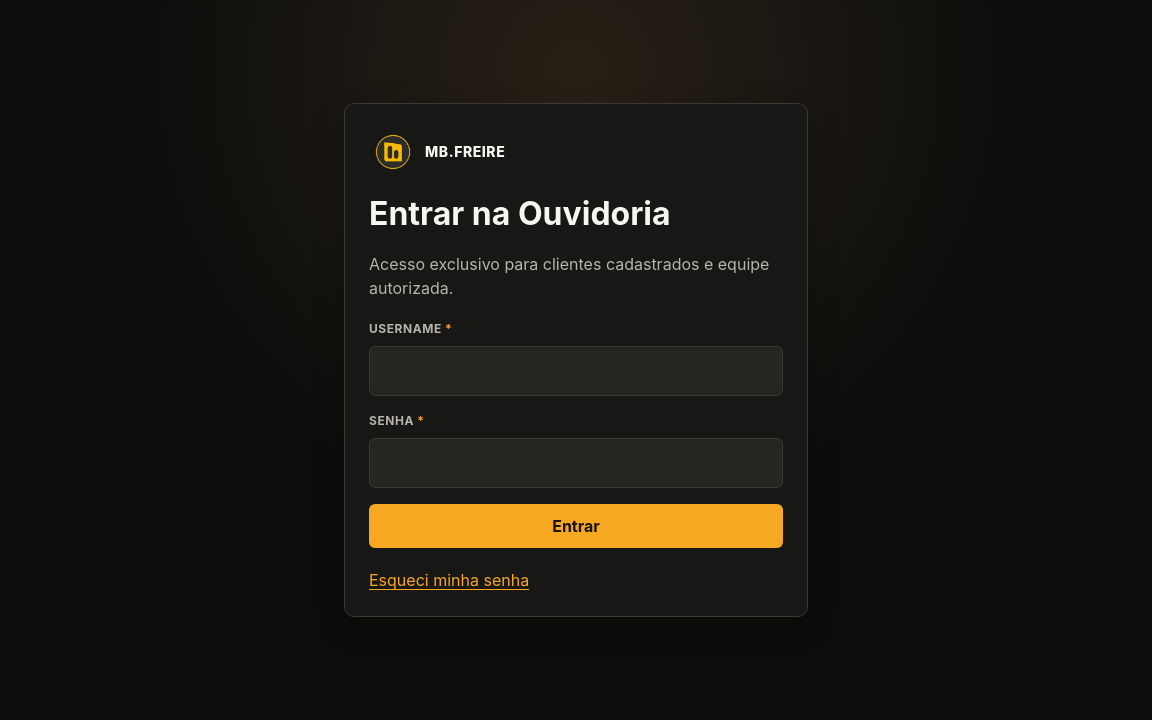
Scenario: dashboard usa /me e a primeira página, mostra apenas total geral e recentes na ordem recebida
Type "cliente" into the field labelled "Username" at point(576, 371), box [369,346,783,396]
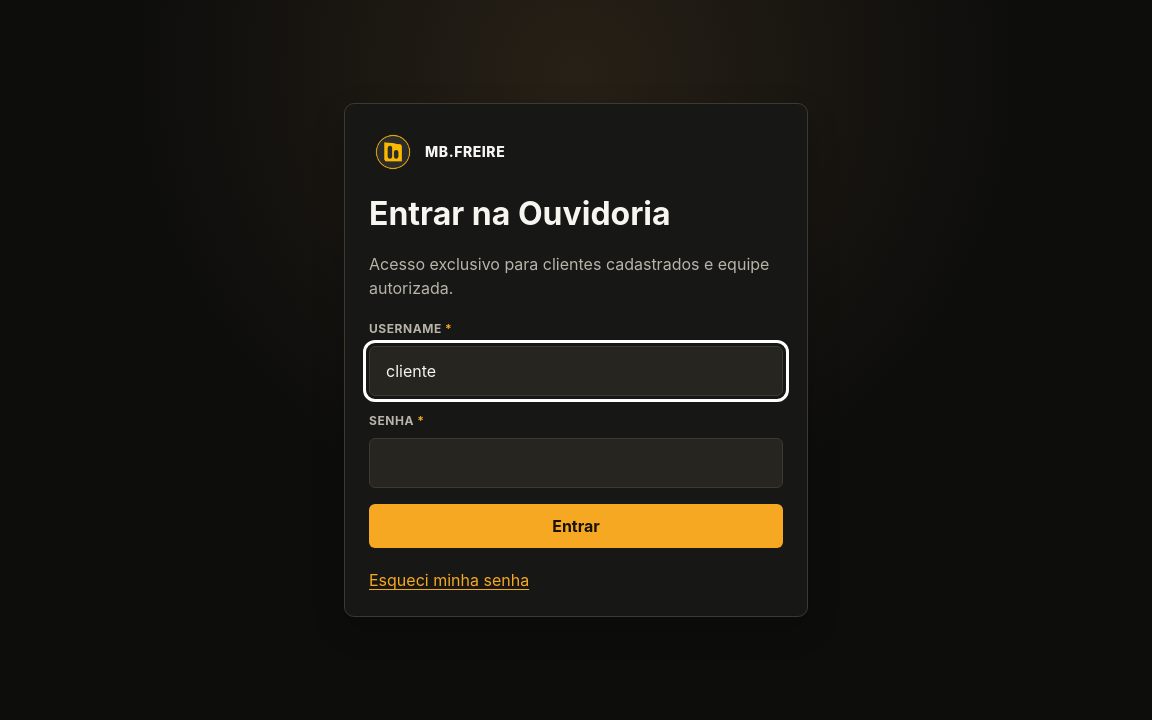
Type "senha-correta" into the password field labelled "Senha *" at point(576, 463), box [369,438,783,488]
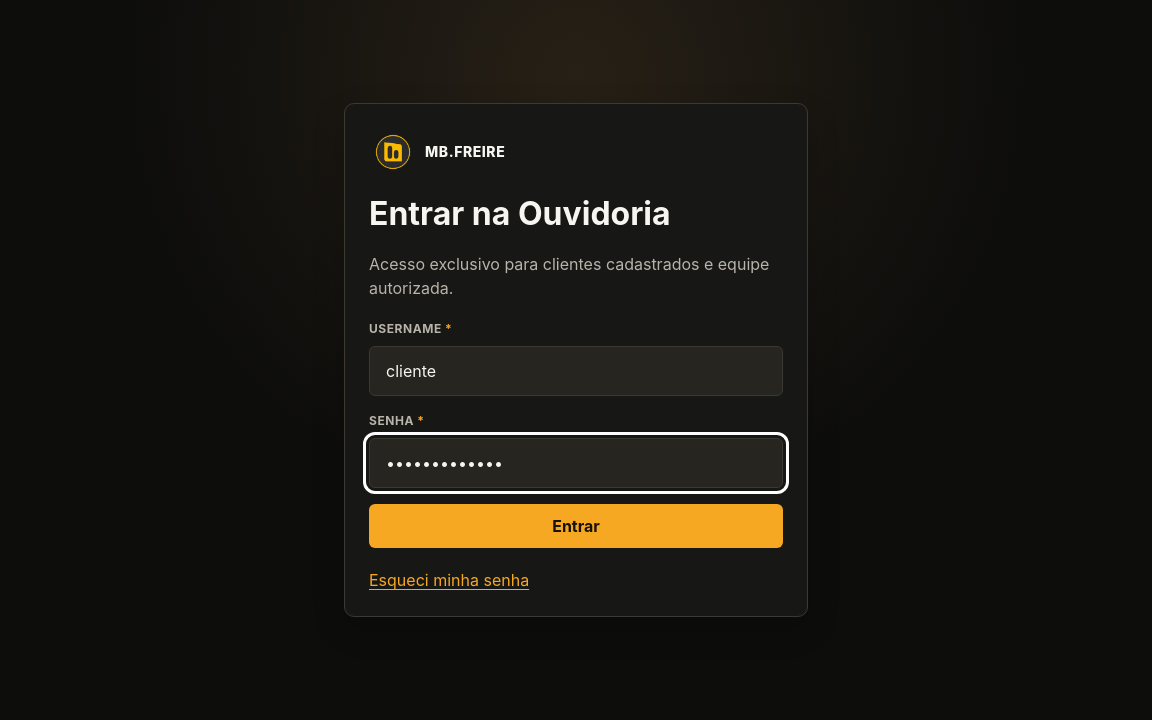
Click the button "Entrar" at point(576, 526), box [369,504,783,548]
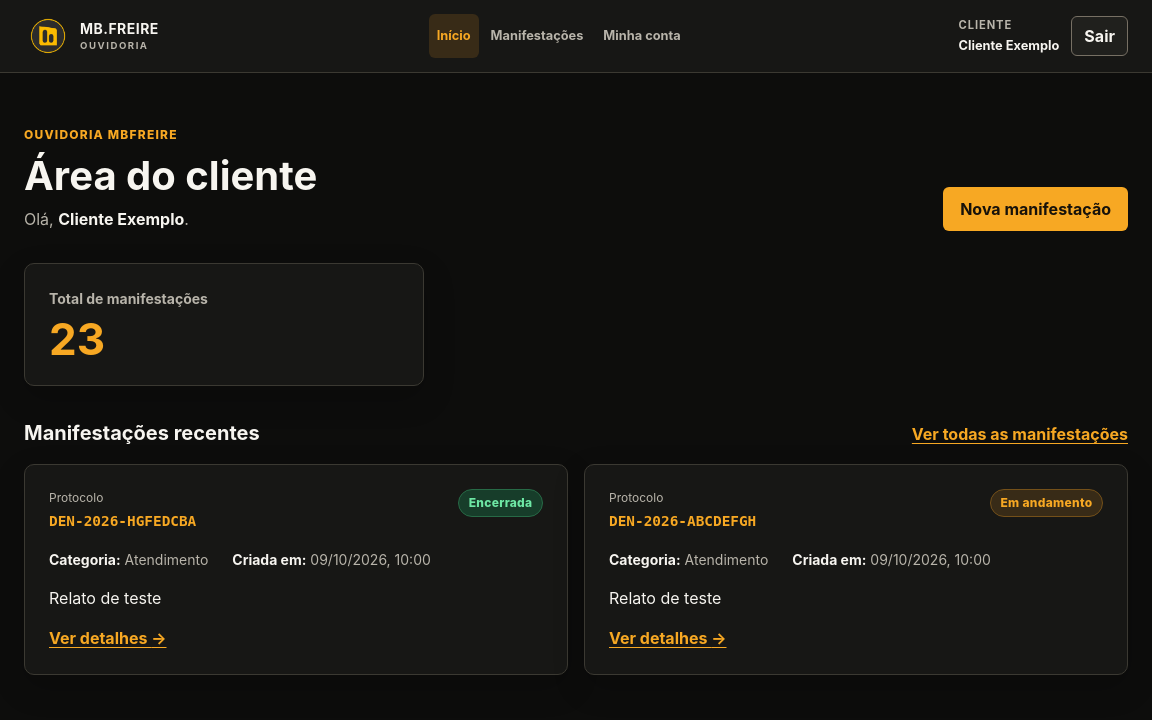
Expected: the heading "Área do cliente" is shown, [24,153,317,199]
Expected: the text "23" is shown, [49,312,105,366]
Expected: the text "Cliente Exemplo" next to "Olá," is shown, [58,209,184,229]
